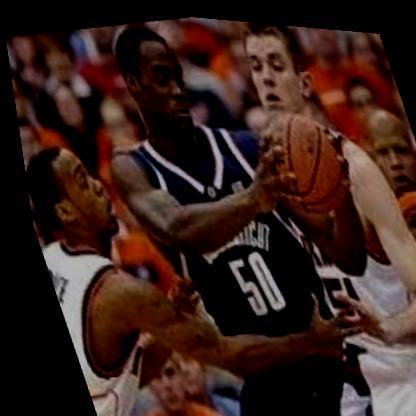basketball: (236, 92, 365, 221)
